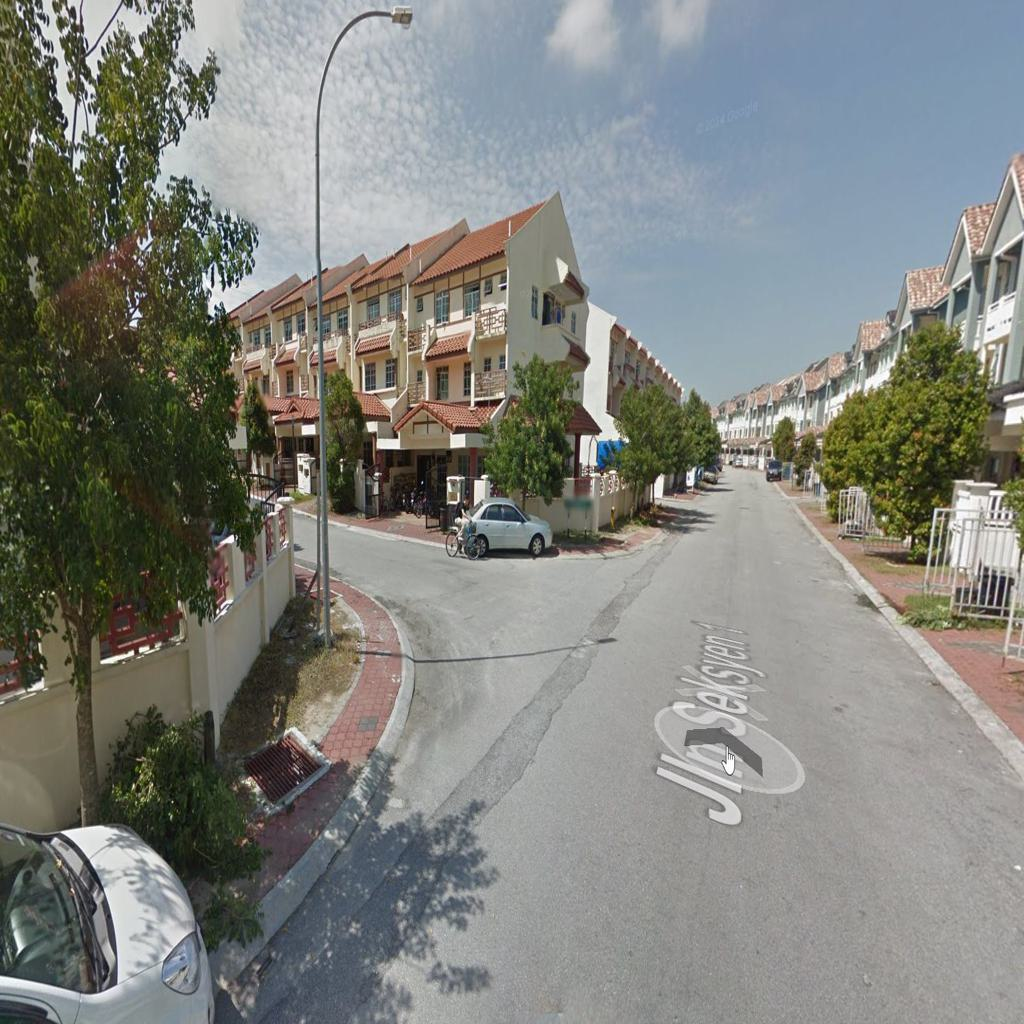Junction: (330, 513, 631, 727)
